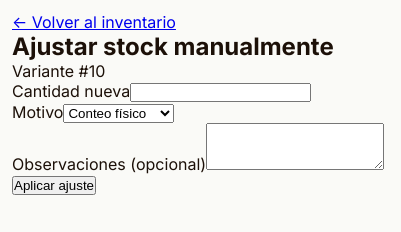
AdminInventoryAdjustPage (UC-INV-04) › muestra un mensaje de exito tras un ajuste correcto
Type "12" into the number field labelled "Cantidad nueva" at (221, 92), box [130,83,311,102]
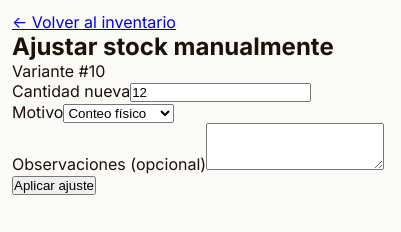
Click the button "Aplicar ajuste" at (54, 186), box [12,176,96,195]
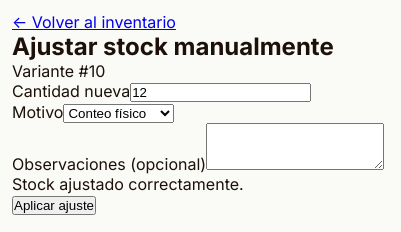
Check: the text "Stock ajustado correctamente." is shown, box [12,174,244,194]
